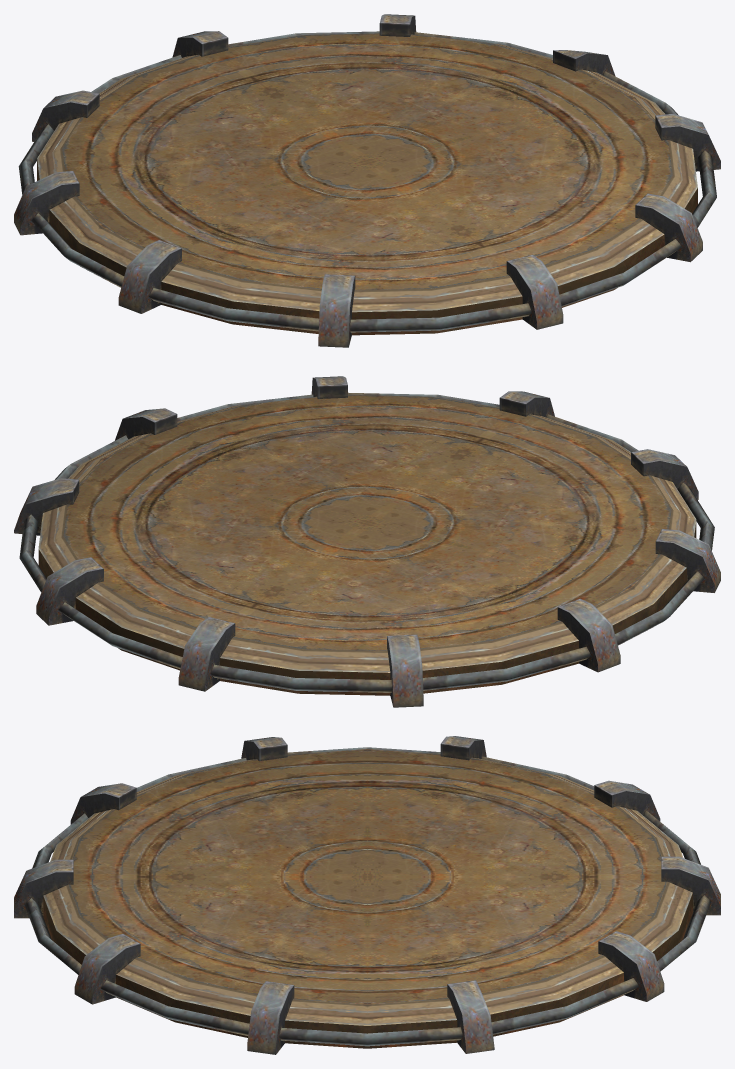
The model's file is yw_huxiaoshamo_yuantai01.FBX.
3 renders of one model, top to bottom at view 1: azimuth 30°, elevation 25°; view 2: azimuth 150°, elevation 25°; view 3: azimuth 270°, elevation 25°, orthographic.
Visible parts, largest first — view 1: yw_huxiaoshamo_yuantai01; view 2: yw_huxiaoshamo_yuantai01; view 3: yw_huxiaoshamo_yuantai01.
Boxes of the visible parts, x1=… form: yw_huxiaoshamo_yuantai01: x1=14, y1=14, x2=720, y2=347; yw_huxiaoshamo_yuantai01: x1=14, y1=376, x2=720, y2=707; yw_huxiaoshamo_yuantai01: x1=14, y1=736, x2=720, y2=1054.
Size of the model in its own units: 975 by 71.5 by 996.
